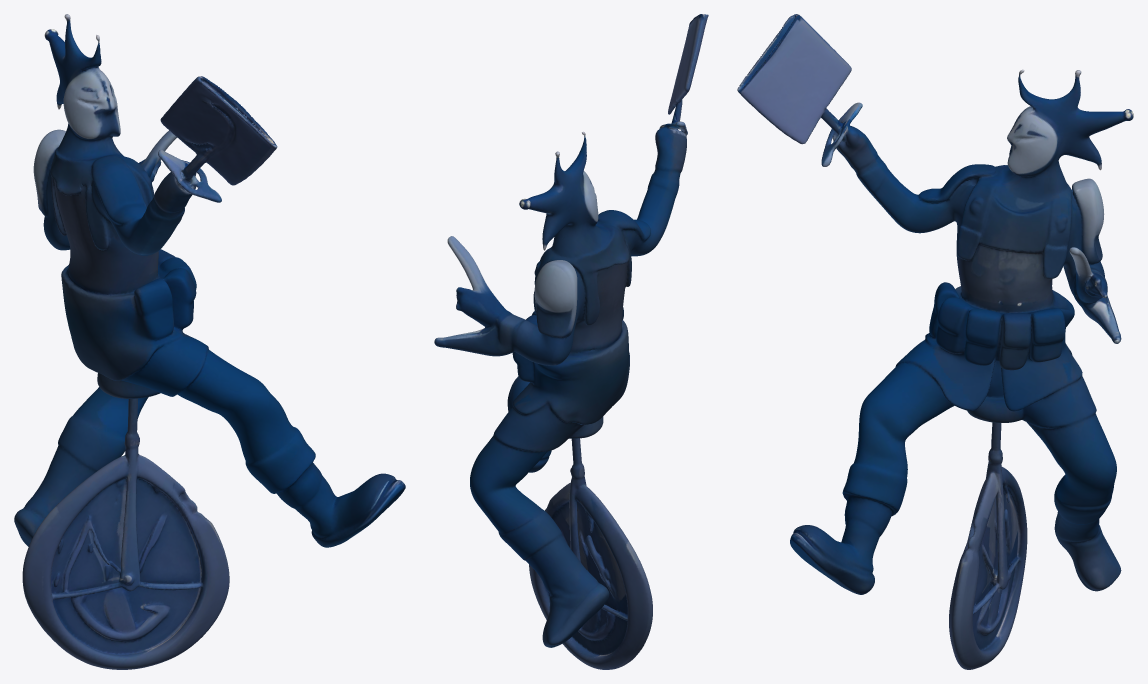
3 views of the same model, side by side, from view 1: azimuth 30°, elevation 25°; view 2: azimuth 150°, elevation 25°; view 3: azimuth 270°, elevation 25° (orthographic). The views are drawn at different scales.
Visible parts, largest first — view 1: tripo_node_641bccc5-c70f-437e-8923-5d0924090707; view 2: tripo_node_641bccc5-c70f-437e-8923-5d0924090707; view 3: tripo_node_641bccc5-c70f-437e-8923-5d0924090707.
Boxes of the visible parts, <box> form: tripo_node_641bccc5-c70f-437e-8923-5d0924090707: <box>14,14,405,669</box>; tripo_node_641bccc5-c70f-437e-8923-5d0924090707: <box>434,14,708,669</box>; tripo_node_641bccc5-c70f-437e-8923-5d0924090707: <box>737,14,1133,669</box>.
Size of the model in its own units: 0.4209 by 1 by 0.5675.
1 material, 1 textured.
